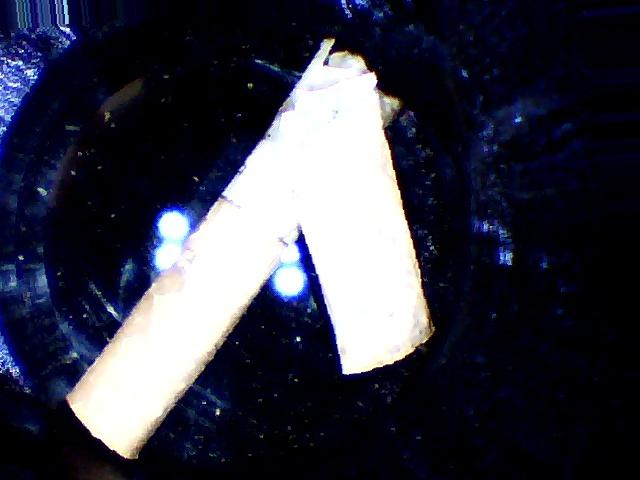megot: (11, 24, 442, 475), (260, 61, 457, 395)
